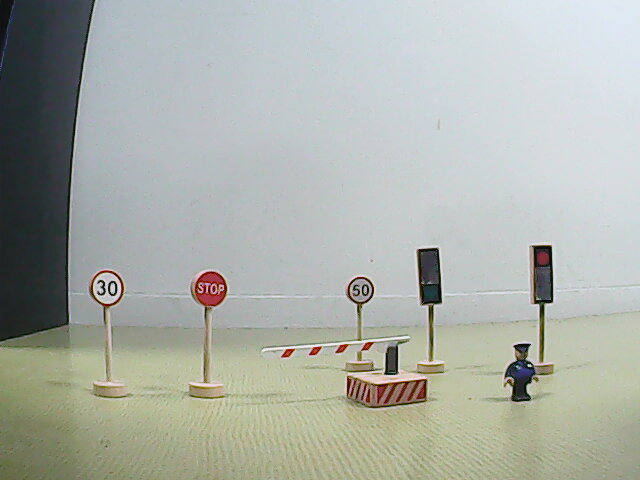barrier: (260, 334, 431, 409)
green_traffic_sign: (416, 247, 443, 307)
person: (501, 341, 541, 403)
red_traffic_sign: (530, 245, 553, 304)
sign_30: (89, 268, 125, 308)
sign_50: (346, 275, 375, 305)
stop_sign: (190, 269, 229, 311)
